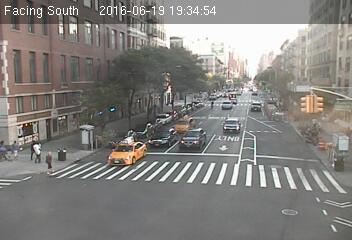neg: (237, 162, 265, 200), (316, 128, 342, 163), (130, 50, 154, 82), (70, 124, 94, 155), (69, 46, 92, 78), (247, 115, 269, 144), (115, 188, 137, 217), (287, 204, 308, 233), (285, 151, 305, 178), (38, 193, 58, 220), (128, 139, 146, 164), (29, 72, 47, 97), (192, 110, 208, 132), (184, 152, 200, 174), (198, 56, 214, 77), (304, 93, 319, 113), (251, 63, 266, 83), (152, 105, 166, 123)
pos: (43, 147, 61, 171), (28, 139, 46, 163)
